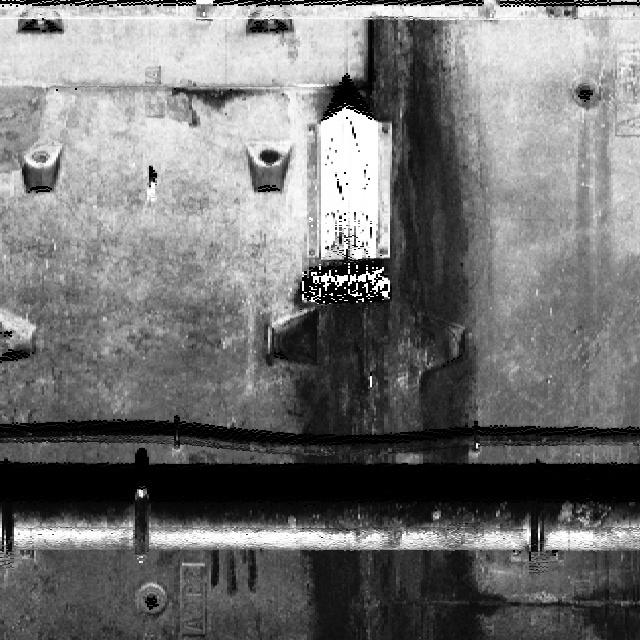leakage: (275, 7, 512, 639), (570, 566, 639, 639)
